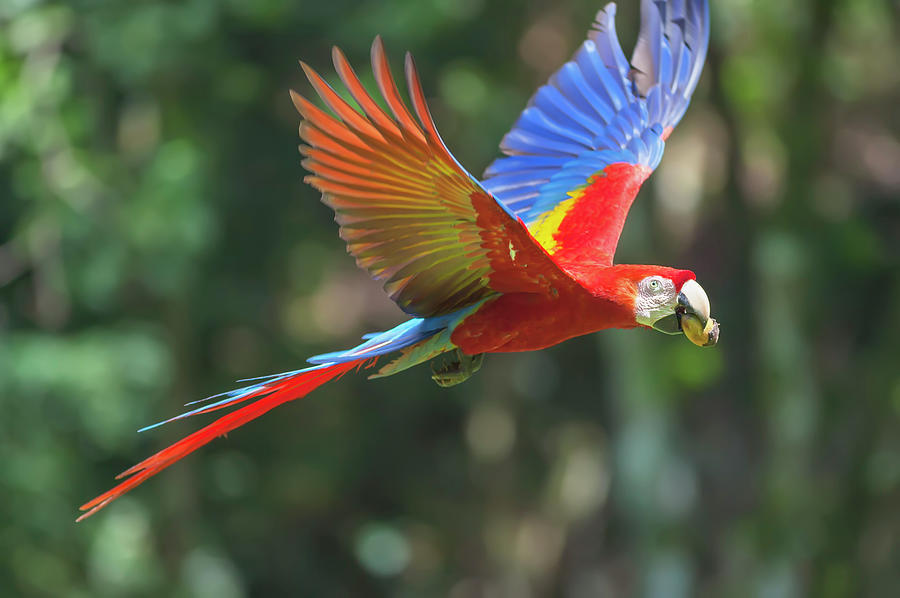Lapa: (229, 2, 827, 394)
